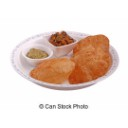poori: (29, 59, 74, 83), (74, 50, 110, 76), (77, 35, 109, 57)
